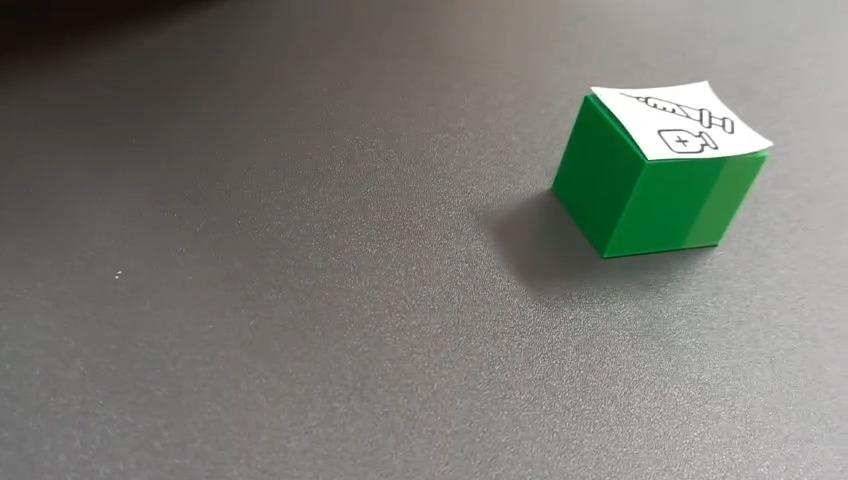antiseptic cream: (550, 78, 774, 259)
